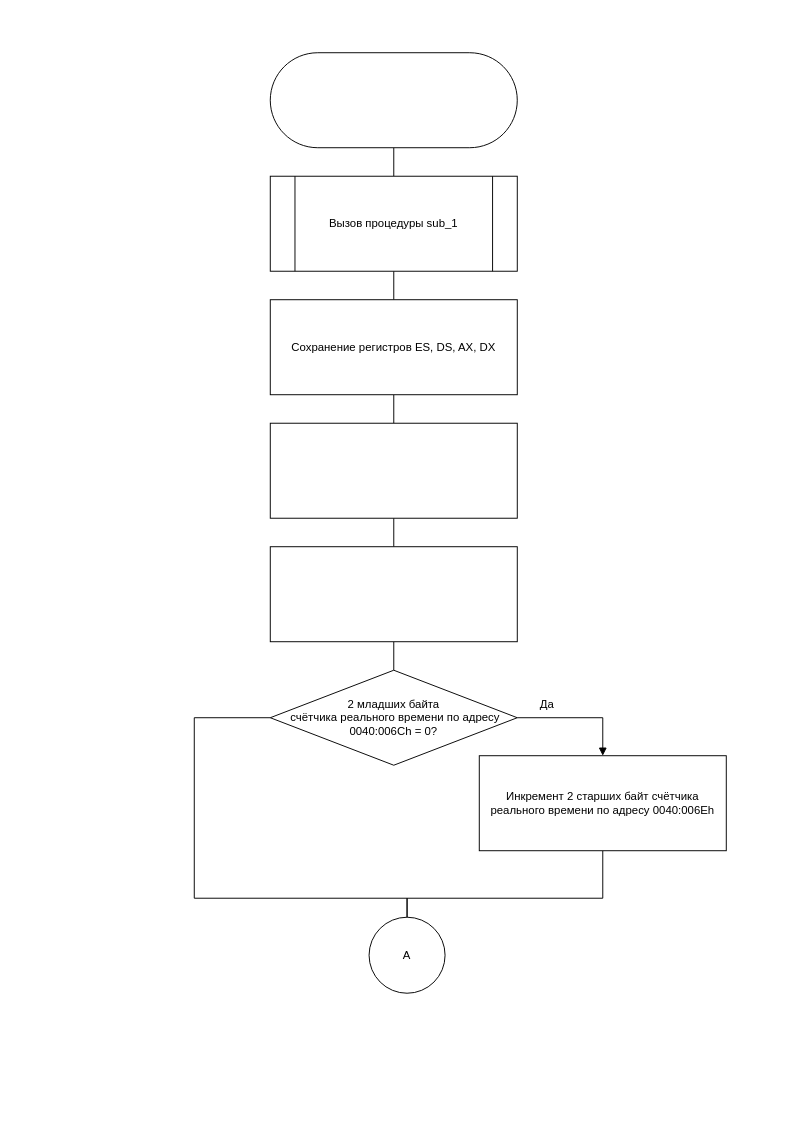
The diagram is 811 pixels wide and 1141 high, and some of its shapes have lost their labels. The shapes that lost their labels are listed below. From the top down, each one's box as (x1, y1, x2, y2) in pixels, then its label:
(269, 52, 517, 148): Начало
(269, 422, 517, 518): Загрузка DS=0040h, ES=0000h
(269, 546, 517, 642): Инкремент 2 младших байт счётчика реального времени по адресу 0040:006Сh
